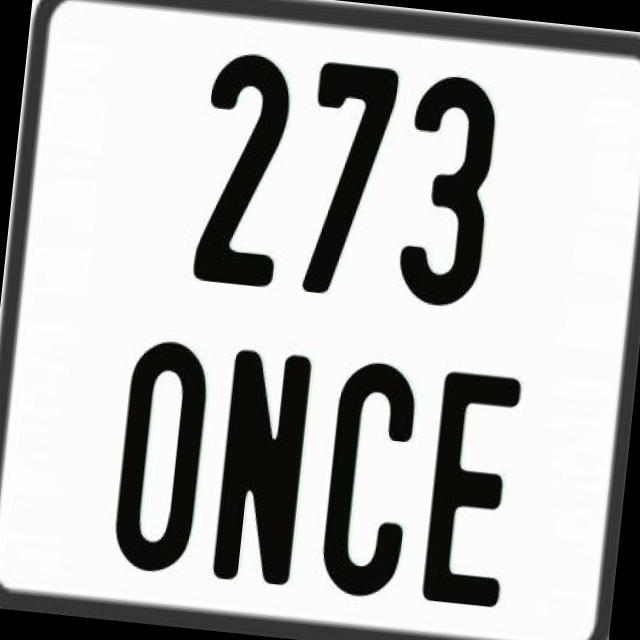0: (105, 334, 214, 580)
2: (192, 46, 296, 288)
3: (394, 72, 501, 316)
7: (296, 61, 402, 303)
C: (314, 354, 422, 604)
E: (418, 366, 528, 614)
N: (210, 346, 312, 584)
